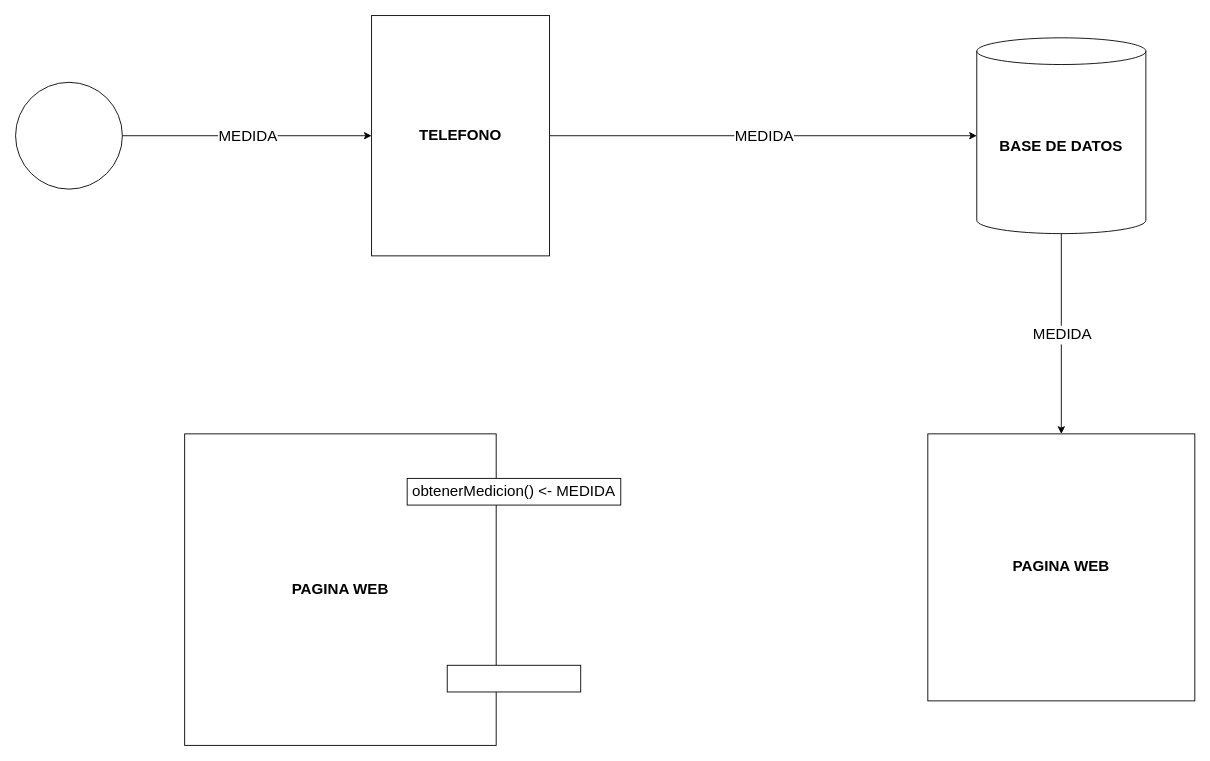
Image size: 1210x761. Some labels were removed from this diagram. Here are the shapes that lost their labels. From the top down, the centre of each, then its label:
At point (68, 135): "SENSOR GAS".
At point (513, 678): "mostrarMedicion()".
